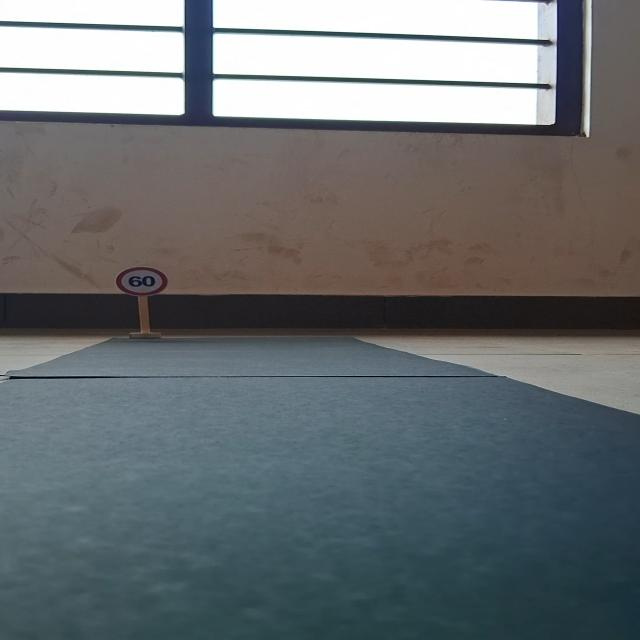Speed60: (115, 266, 168, 296)
